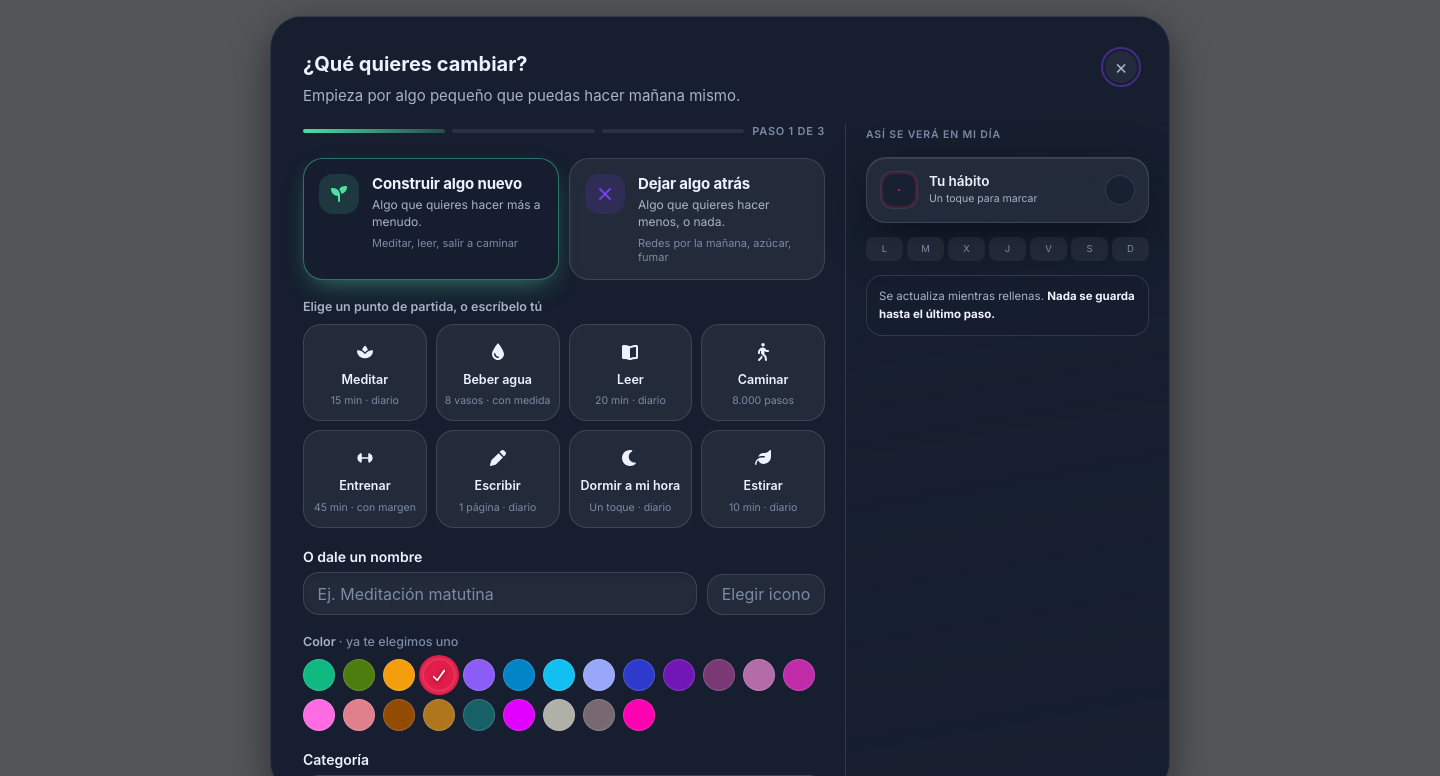
Test: HabitFormModal — crear › no usa jerga en el camino por defecto
In the field labelled "O dale un nombre": (500, 594) [303,572,697,615], type "Meditar"
(page scrolled)
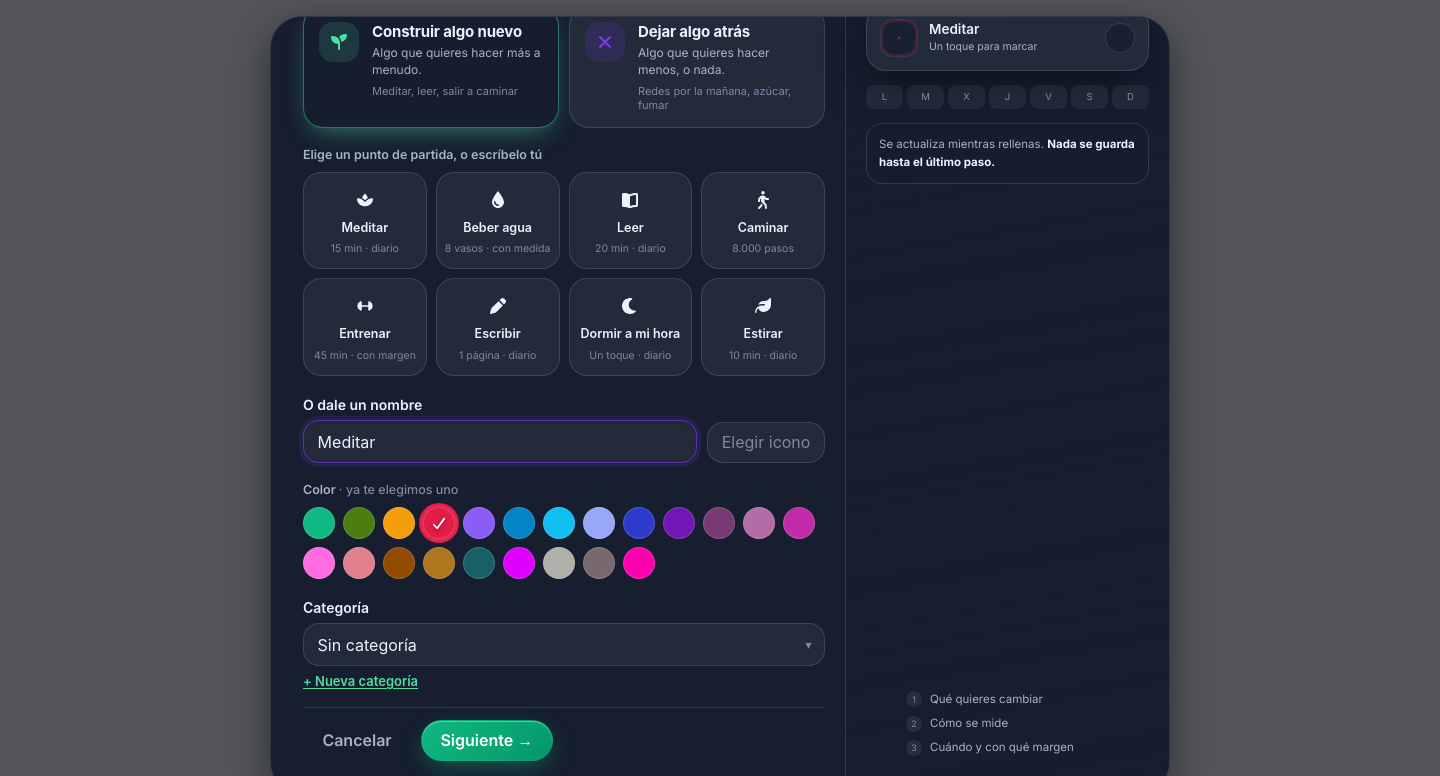
Click the button "Siguiente →": (487, 740) [421,720,553,760]
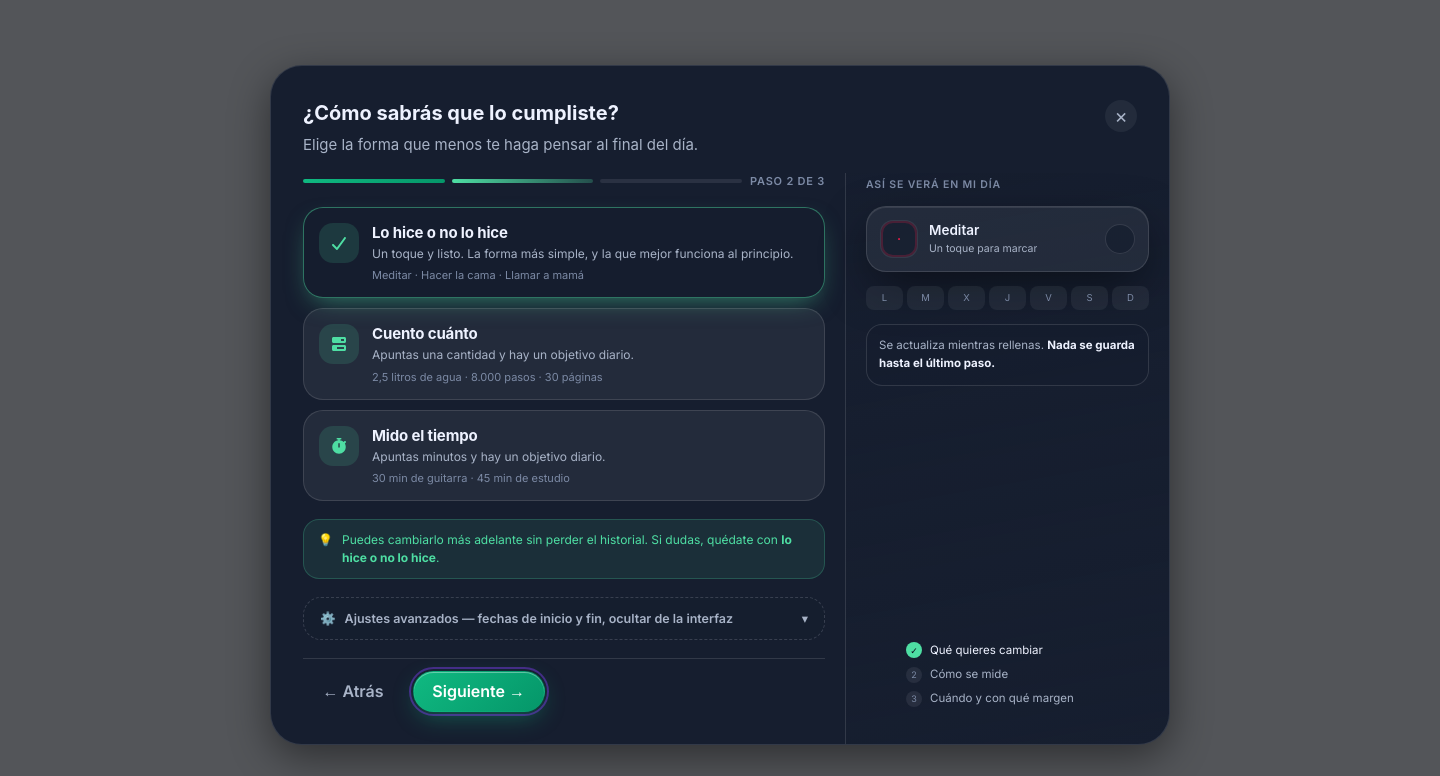
Now the text "Lo hice o no lo hice" is shown, box [372,223,508,242]
